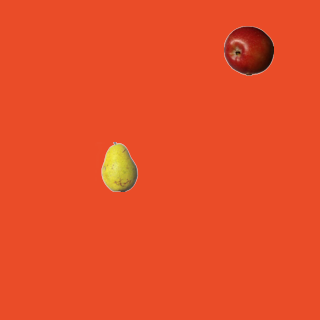Apple Braeburn: (223, 25, 273, 75)
Pear Monster: (94, 141, 144, 191)
